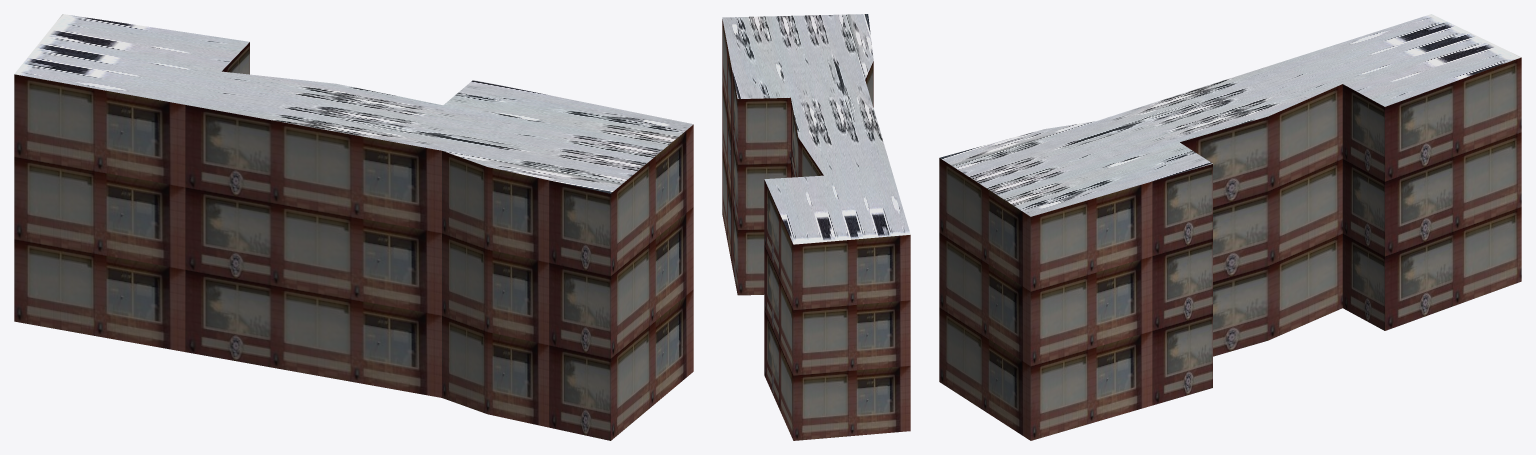
The model's file is ResTex__5239.fbx.
The picture shows the model from 3 angles, left to right: view 1: azimuth 30°, elevation 25°; view 2: azimuth 150°, elevation 25°; view 3: azimuth 270°, elevation 25°; orthographic projection. The views are drawn at different scales.
Visible parts, largest first — view 1: CityEngineMaterial_13_m, CityEngineMaterial_8_m; view 2: CityEngineMaterial_13_m, CityEngineMaterial_8_m; view 3: CityEngineMaterial_13_m, CityEngineMaterial_8_m.
Boxes of the visible parts, x1,y1,x2,y2 form: CityEngineMaterial_13_m: [14, 42, 693, 440]; CityEngineMaterial_8_m: [14, 14, 693, 193]; CityEngineMaterial_13_m: [722, 19, 910, 440]; CityEngineMaterial_8_m: [722, 14, 910, 244]; CityEngineMaterial_13_m: [939, 57, 1521, 440]; CityEngineMaterial_8_m: [939, 14, 1521, 216].
Size of the model in its own units: 17.47 by 9 by 21.19.
Materials: 2 (2 with a texture image).
